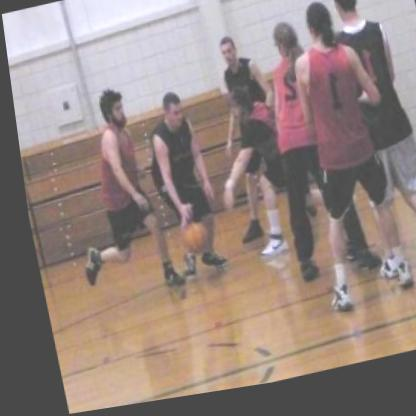basketball: (173, 225, 202, 261)
